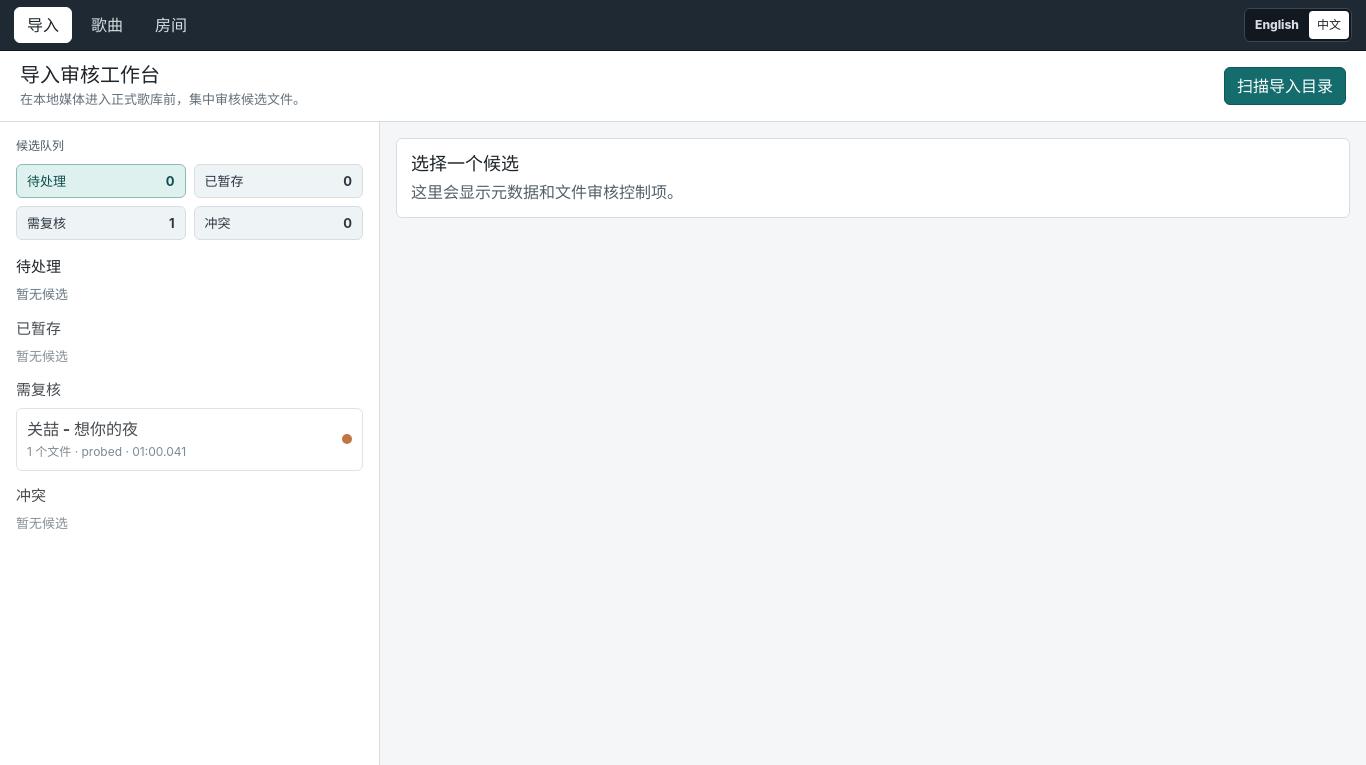
Test: real MV review UI › does not expose auto-admit controls in v1.2
This screenshot has width=1366, height=765.
Click the button "关喆 - 想你的夜 1 个文件 · probed · 01:00.041" at [43, 429], box top-left (16, 408), bottom-right (363, 471)
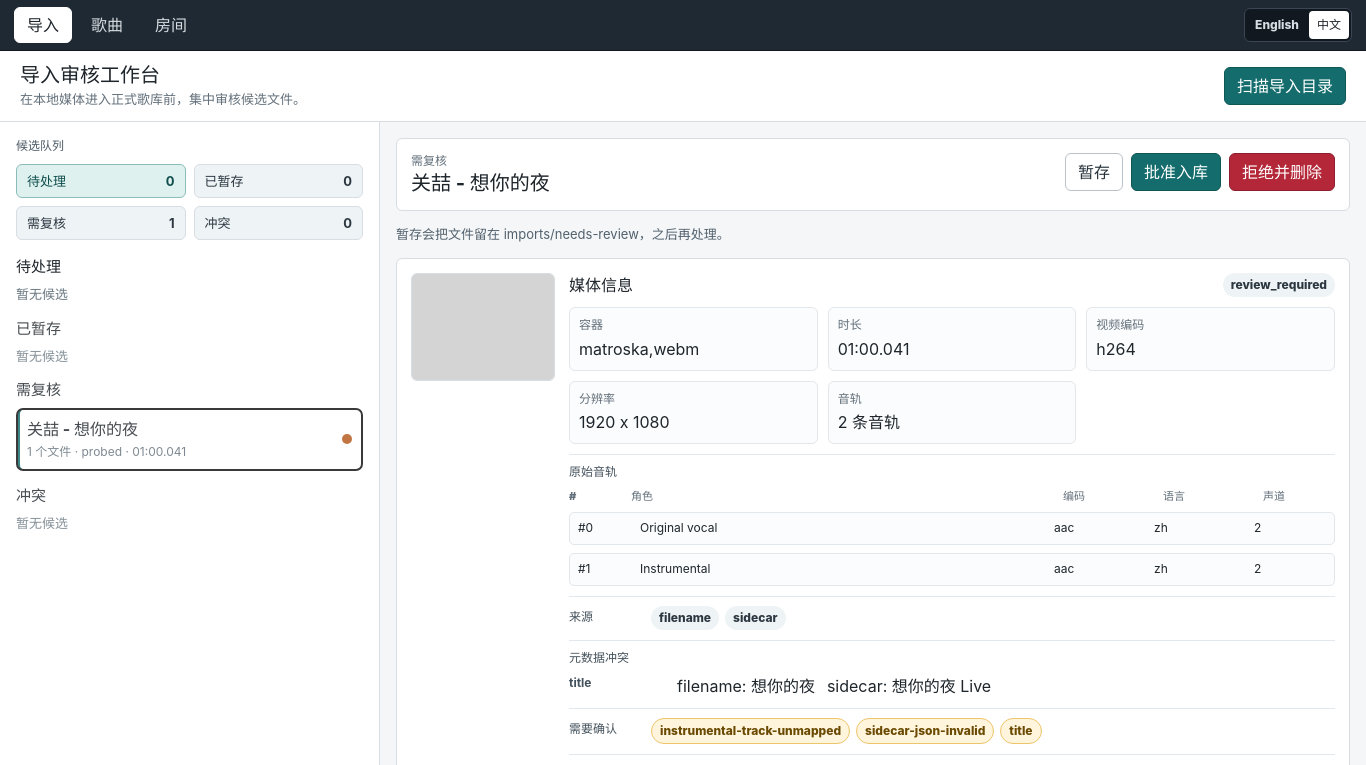
Check: the button "批准入库" is shown, box top-left (1131, 153), bottom-right (1221, 191)
